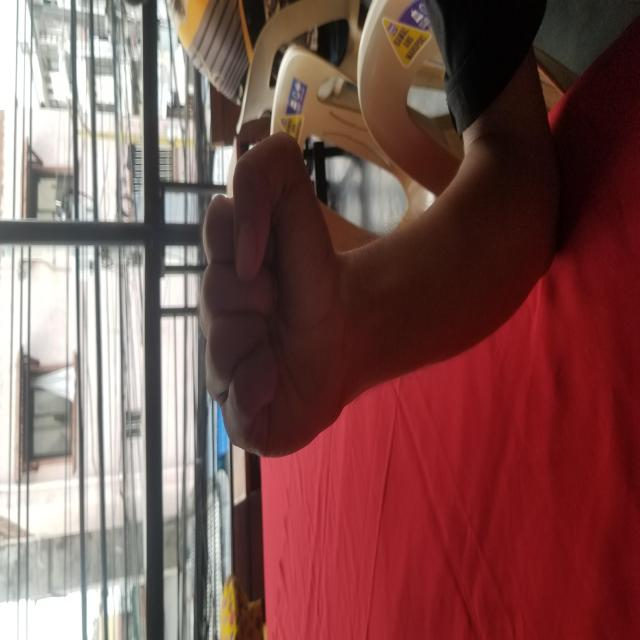S: (178, 198, 513, 346)
